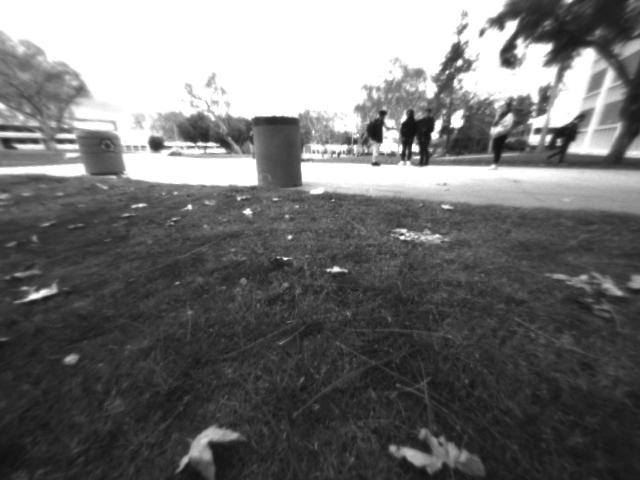trashcan: (251, 114, 304, 189), (75, 125, 139, 180)
